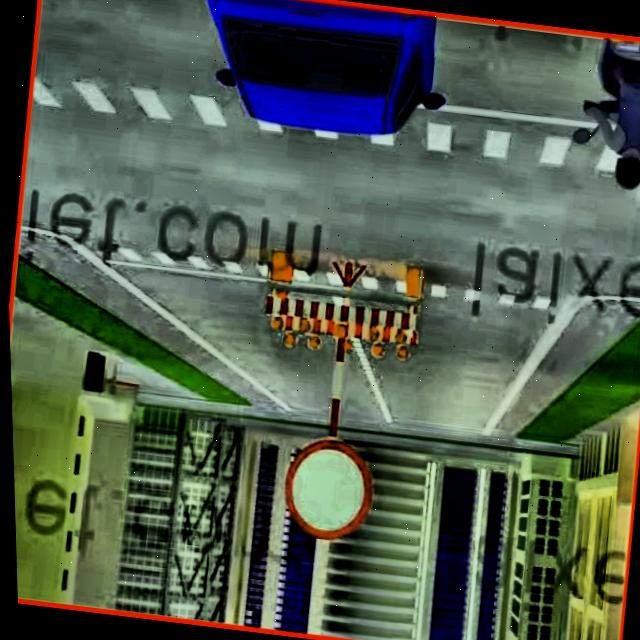Bien_bao_duong_cam: (274, 432, 381, 548)
